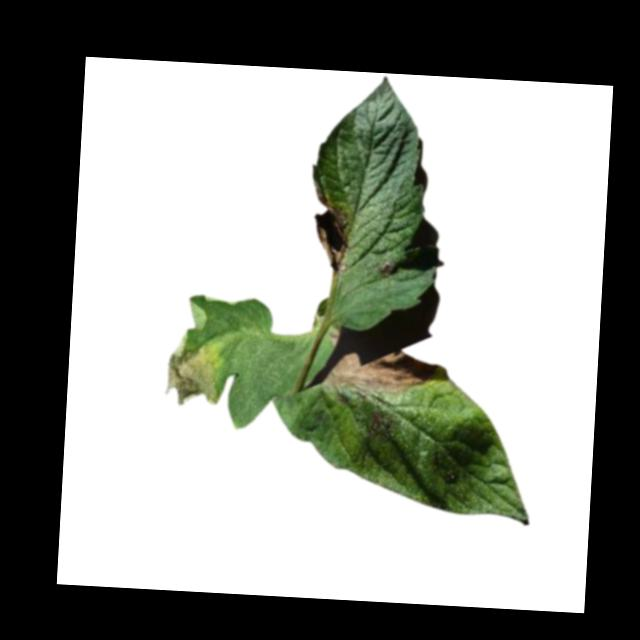Late_blight: (323, 346, 441, 395), (164, 339, 223, 408), (311, 185, 354, 275), (378, 258, 399, 280), (329, 329, 340, 345)
